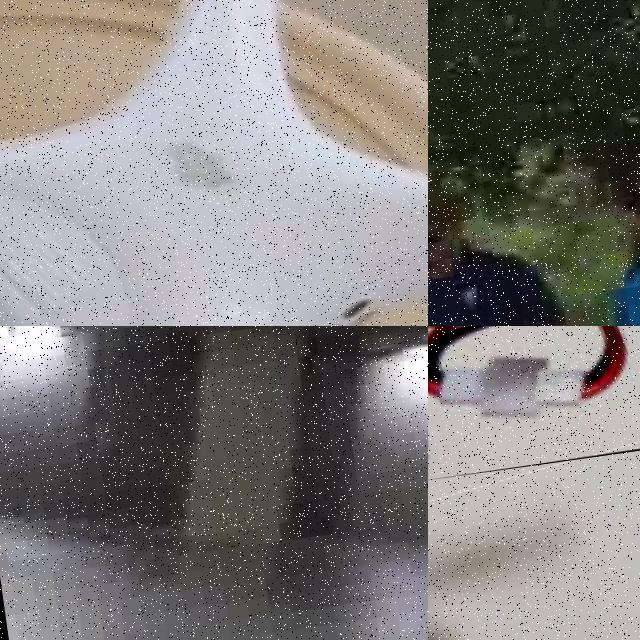drone: (0, 0, 428, 326), (428, 326, 640, 485)
